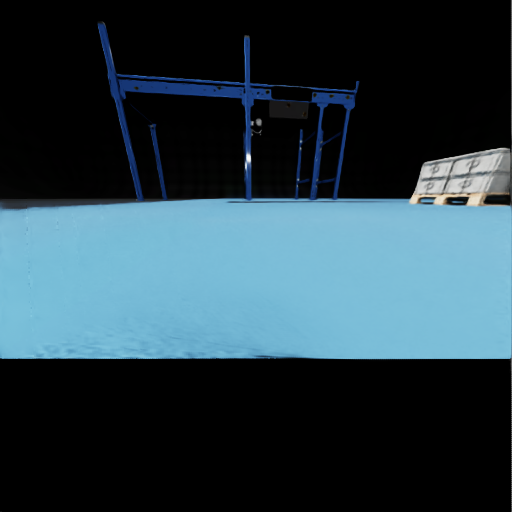transportation_area: (444, 172, 511, 193), (458, 152, 476, 196), (428, 165, 434, 185), (505, 190, 506, 192)
